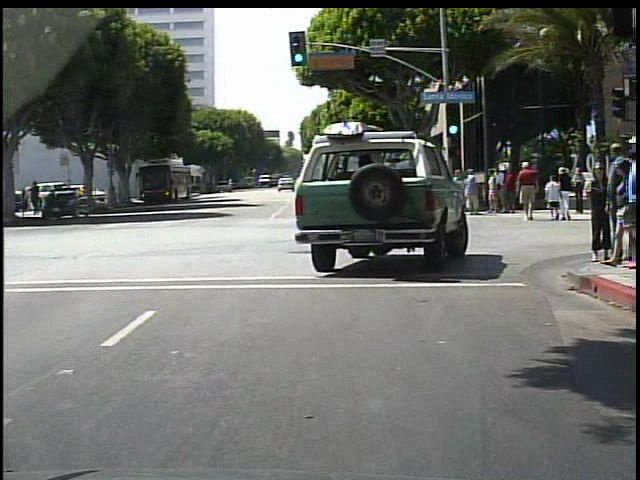person: (584, 163, 616, 266), (618, 136, 640, 265), (605, 142, 626, 263), (516, 162, 538, 223), (542, 174, 562, 224), (559, 166, 575, 223), (464, 165, 479, 216), (570, 166, 584, 218), (507, 167, 520, 216), (485, 169, 498, 213), (492, 165, 504, 210), (116, 180, 125, 208), (108, 180, 117, 203), (456, 167, 457, 215)
